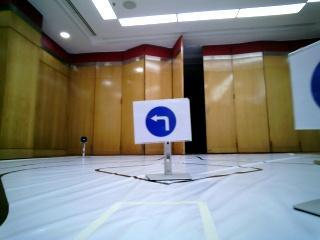left: (131, 102, 193, 139)
